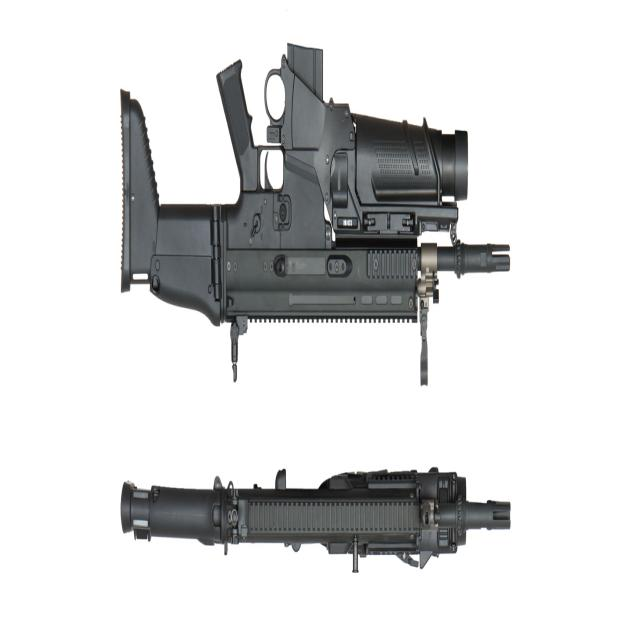Gun: (108, 18, 508, 438), (116, 406, 510, 598)
